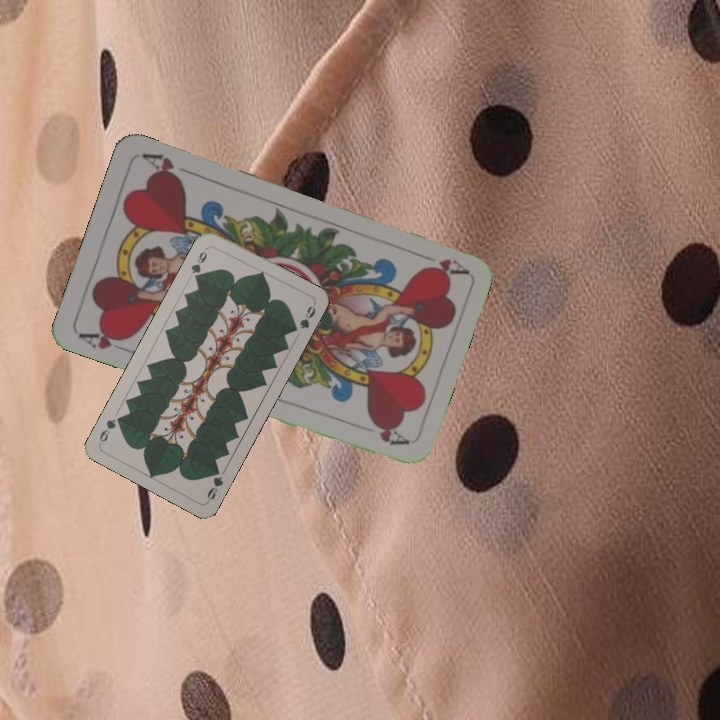G9: (187, 243, 211, 283), (203, 463, 226, 504)
HA: (411, 250, 468, 279), (75, 324, 133, 352)
